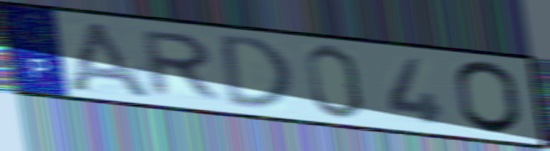0: (302, 42, 368, 122)
4: (383, 55, 447, 126)
A: (62, 20, 158, 102)
D: (218, 32, 296, 111)
O: (452, 59, 526, 137)
R: (140, 29, 225, 103)
